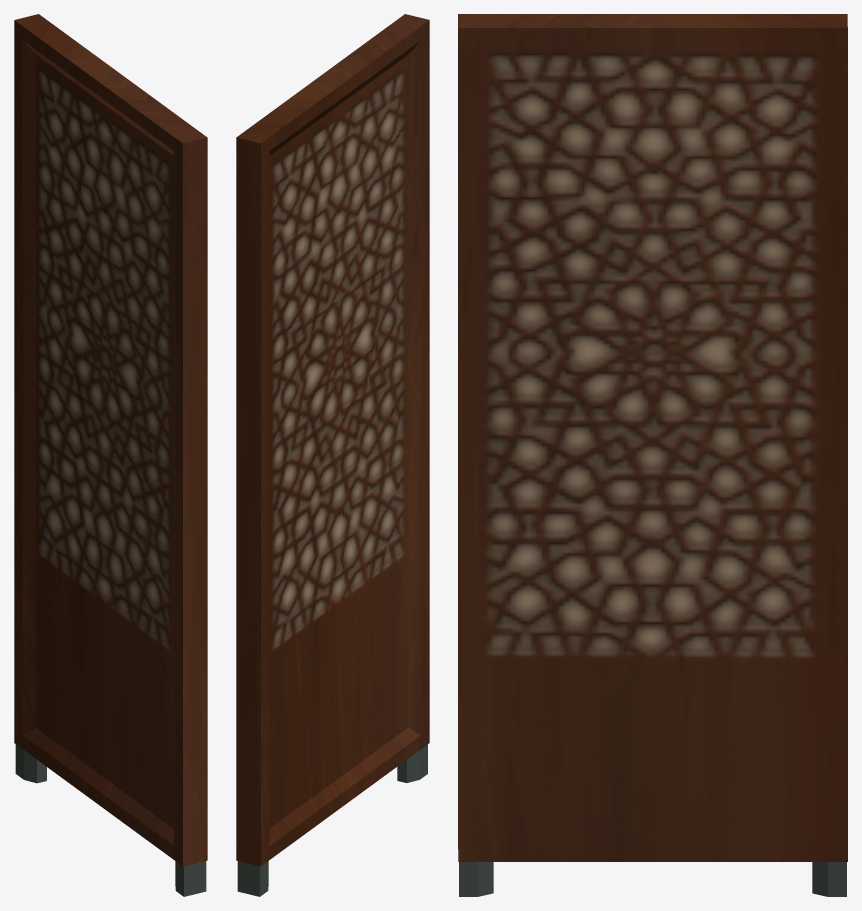
Rendered from street_restaurant_foldingscreen.FBX.
3 views of the same model, side by side, from view 1: azimuth 30°, elevation 25°; view 2: azimuth 150°, elevation 25°; view 3: azimuth 270°, elevation 25° (orthographic). The views are drawn at different scales.
Parts seen in each view (by area): view 1: street_restaurant_foldingscreen; view 2: street_restaurant_foldingscreen; view 3: street_restaurant_foldingscreen.
Part boxes in pixels (x1,y1,x2,y2): street_restaurant_foldingscreen: (14,14,207,896); street_restaurant_foldingscreen: (236,14,429,896); street_restaurant_foldingscreen: (458,14,847,896).
Size of the model in its own units: 6.89 by 201 by 81.48.
Materials: 1 (1 with a texture image).
